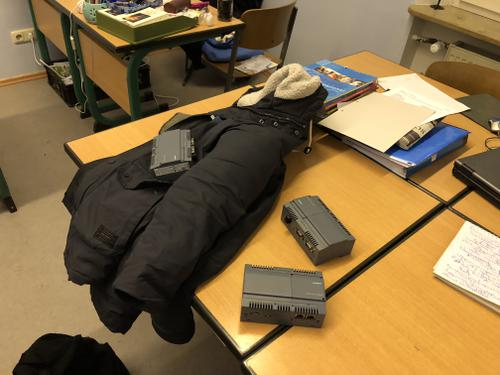device: (239, 263, 326, 328), (280, 195, 356, 266), (150, 128, 198, 181)
